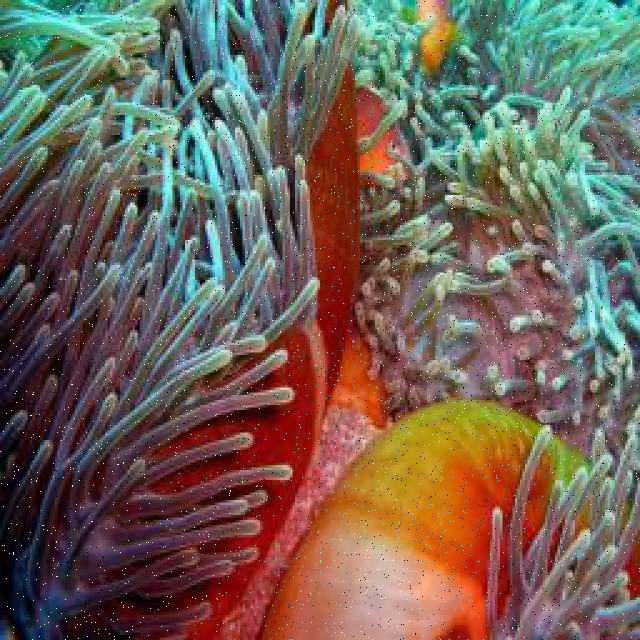reefs: (0, 0, 362, 638), (356, 1, 638, 430), (258, 398, 638, 638)
